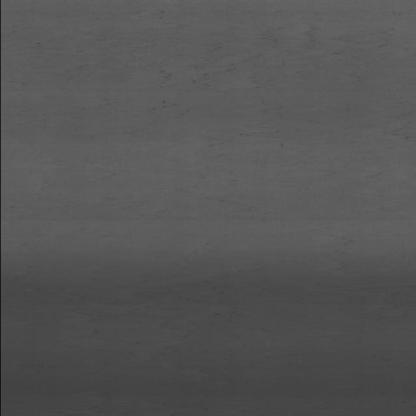silk_spot: (155, 12, 371, 110)
